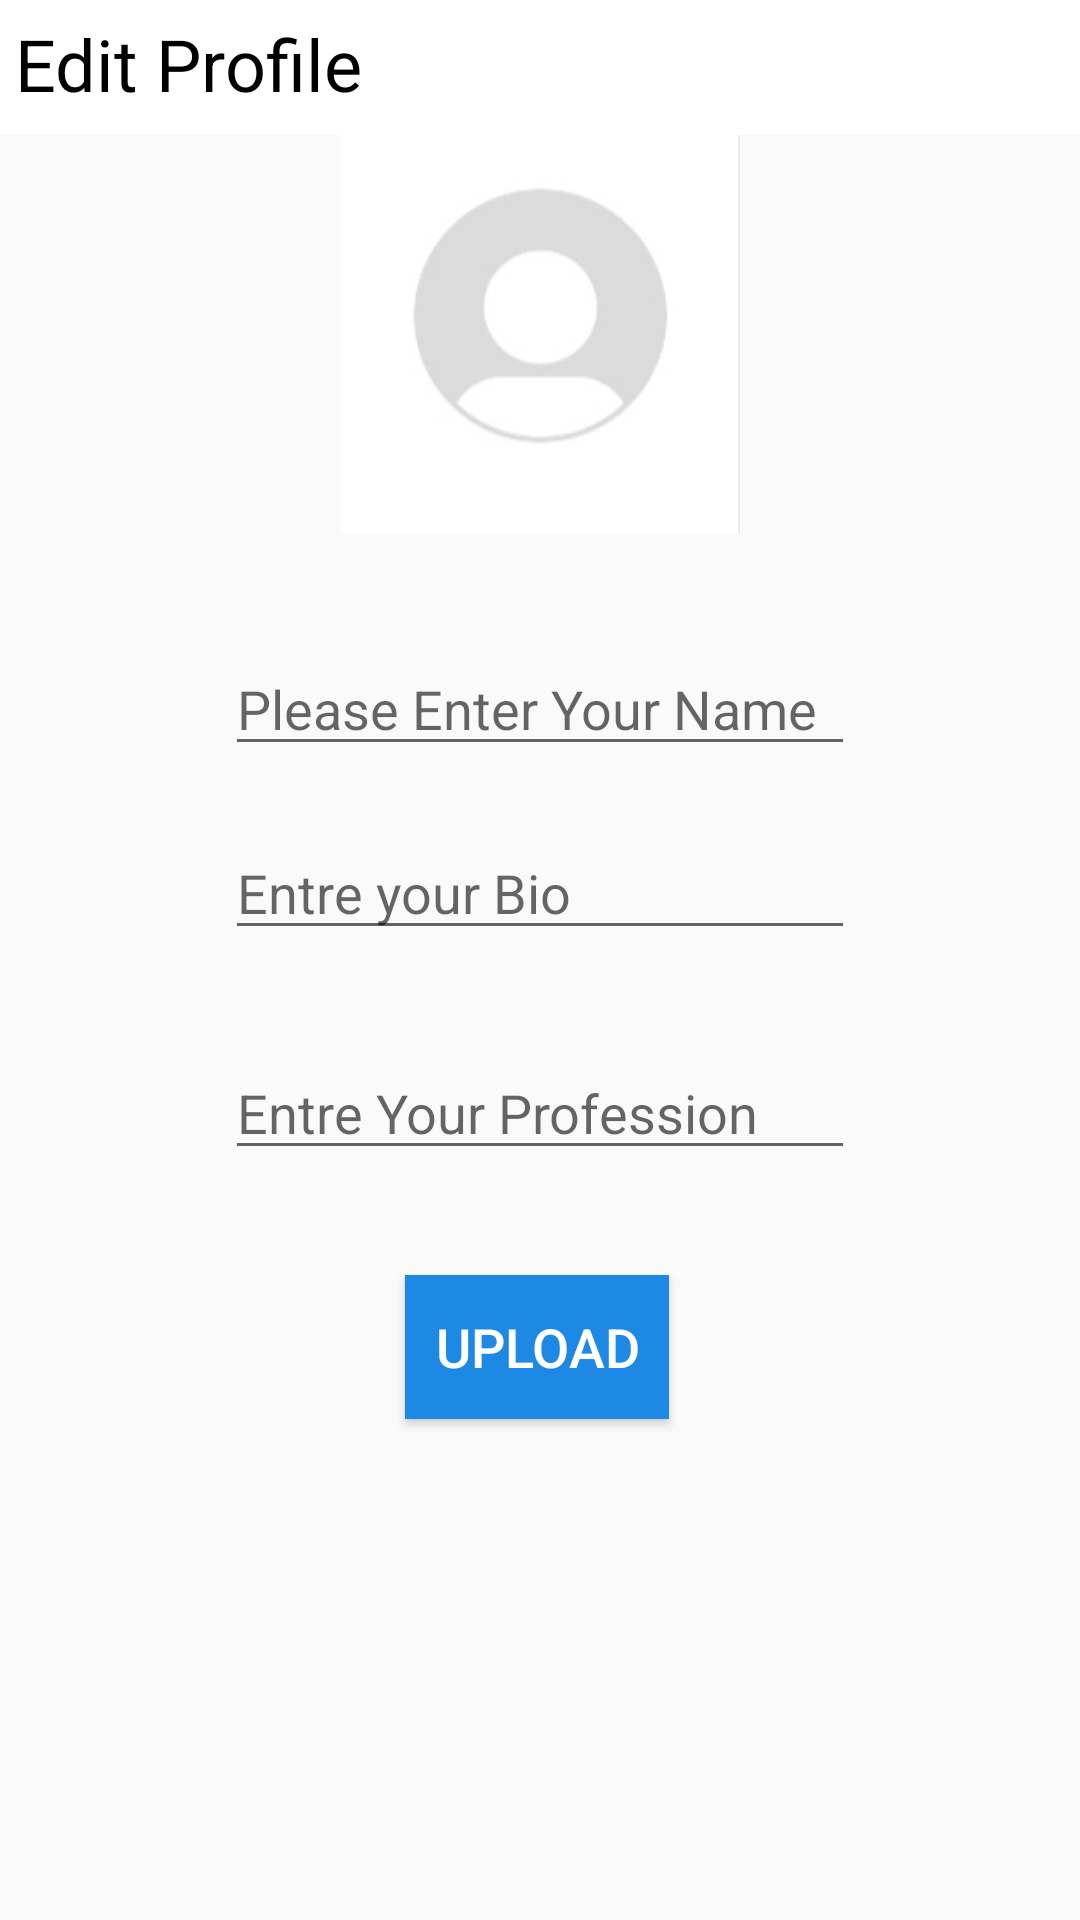

Where to tap for icons on this 1080×1920 app screen, as (x,y):
btm profile: (540,316)
